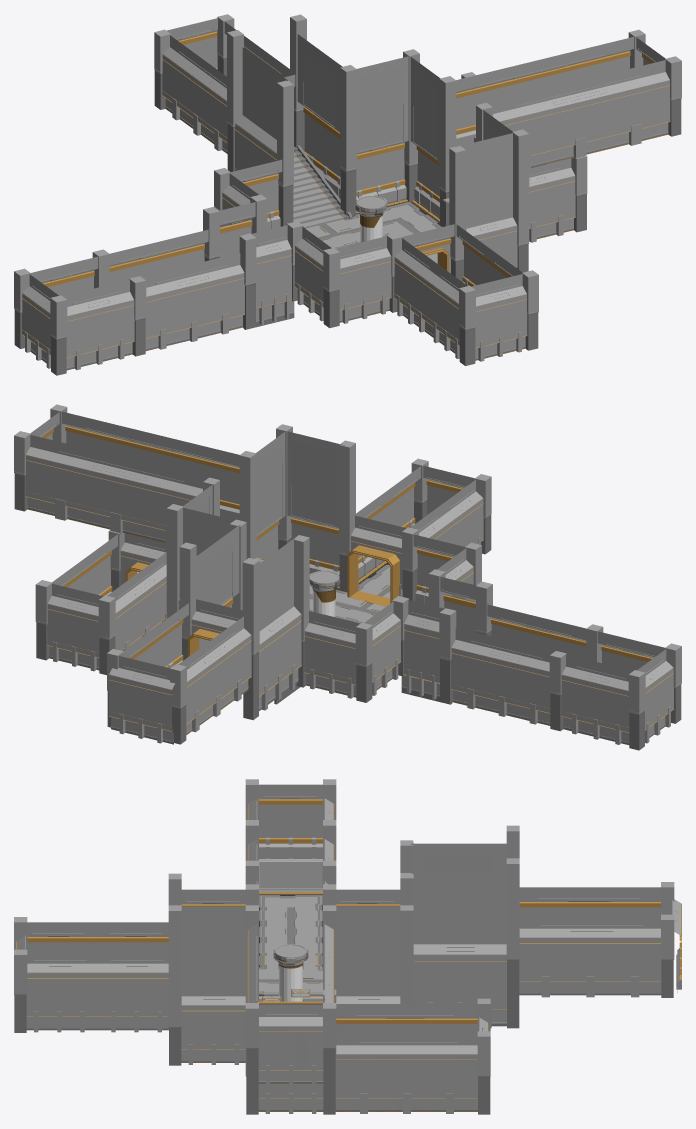
Rendered from SpaceShip3.gltf.
3 views of the same model, one above another, from view 1: azimuth 30°, elevation 25°; view 2: azimuth 150°, elevation 25°; view 3: azimuth 270°, elevation 25° (orthographic). The views are drawn at different scales.
Visible parts, largest first — view 1: global_walls, transparent-left-corridor, transparent-middle_room, transparent-right-corridor, Floor_Global, transparent-start, transparent-pod; view 2: global_walls, transparent-middle_room, transparent-left-corridor, transparent-right-corridor, Floor_Global, transparent-dd-middle, transparent-dd-right, transparent-start, transparent-pod; view 3: global_walls, transparent-middle_room, Floor_Global, transparent-right-corridor, transparent-left-corridor, transparent-pod.
Part boxes in pixels (box(x1,y1,x2,y2)): global_walls: box(14, 14, 665, 368); transparent-left-corridor: box(50, 225, 294, 375); transparent-middle_room: box(286, 102, 529, 328); transparent-right-corridor: box(488, 56, 681, 242); Floor_Global: box(124, 108, 573, 360); transparent-start: box(471, 274, 527, 361); transparent-pod: box(355, 196, 387, 242); global_walls: box(14, 412, 673, 750); transparent-middle_room: box(239, 424, 481, 608); transparent-left-corridor: box(440, 577, 681, 723); transparent-right-corridor: box(50, 404, 239, 520); Floor_Global: box(49, 557, 571, 734); transparent-dd-middle: box(188, 599, 242, 656); transparent-dd-right: box(120, 533, 166, 585); transparent-start: box(423, 466, 474, 514); transparent-pod: box(309, 570, 340, 617); global_walls: box(14, 779, 681, 1114); transparent-middle_room: box(168, 884, 258, 1065); Floor_Global: box(32, 858, 477, 1111); transparent-right-corridor: box(245, 924, 258, 1114); transparent-left-corridor: box(245, 779, 258, 884); transparent-pod: box(273, 944, 308, 1001).
Bounding box in the file's own units: 39.68 × 10.92 × 34.59.
